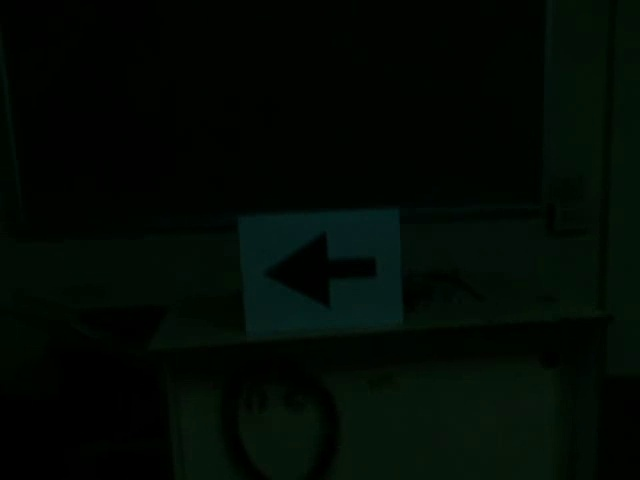Left: (253, 231, 385, 317)
